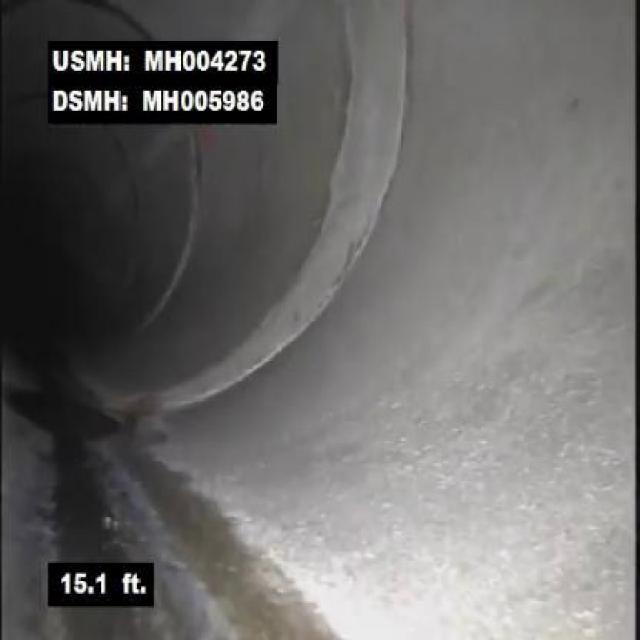Joint offset: (281, 6, 417, 320), (163, 309, 283, 411)
